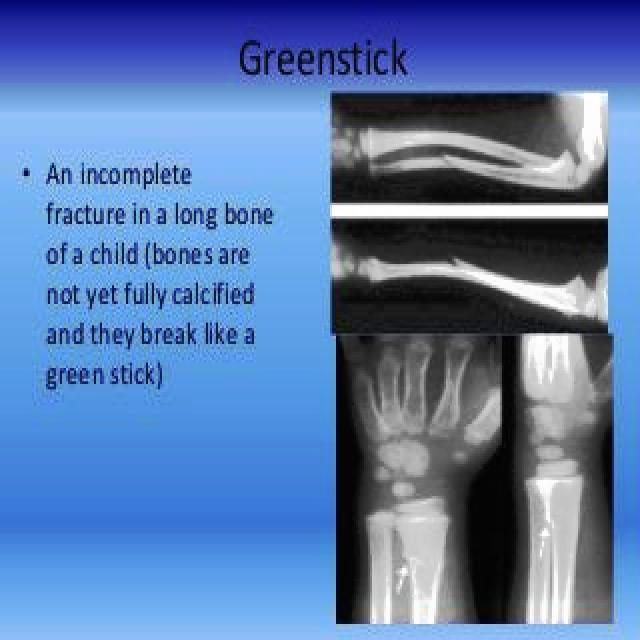Fracture Dislocation: (546, 138, 599, 187), (447, 247, 473, 286), (434, 146, 464, 179)
